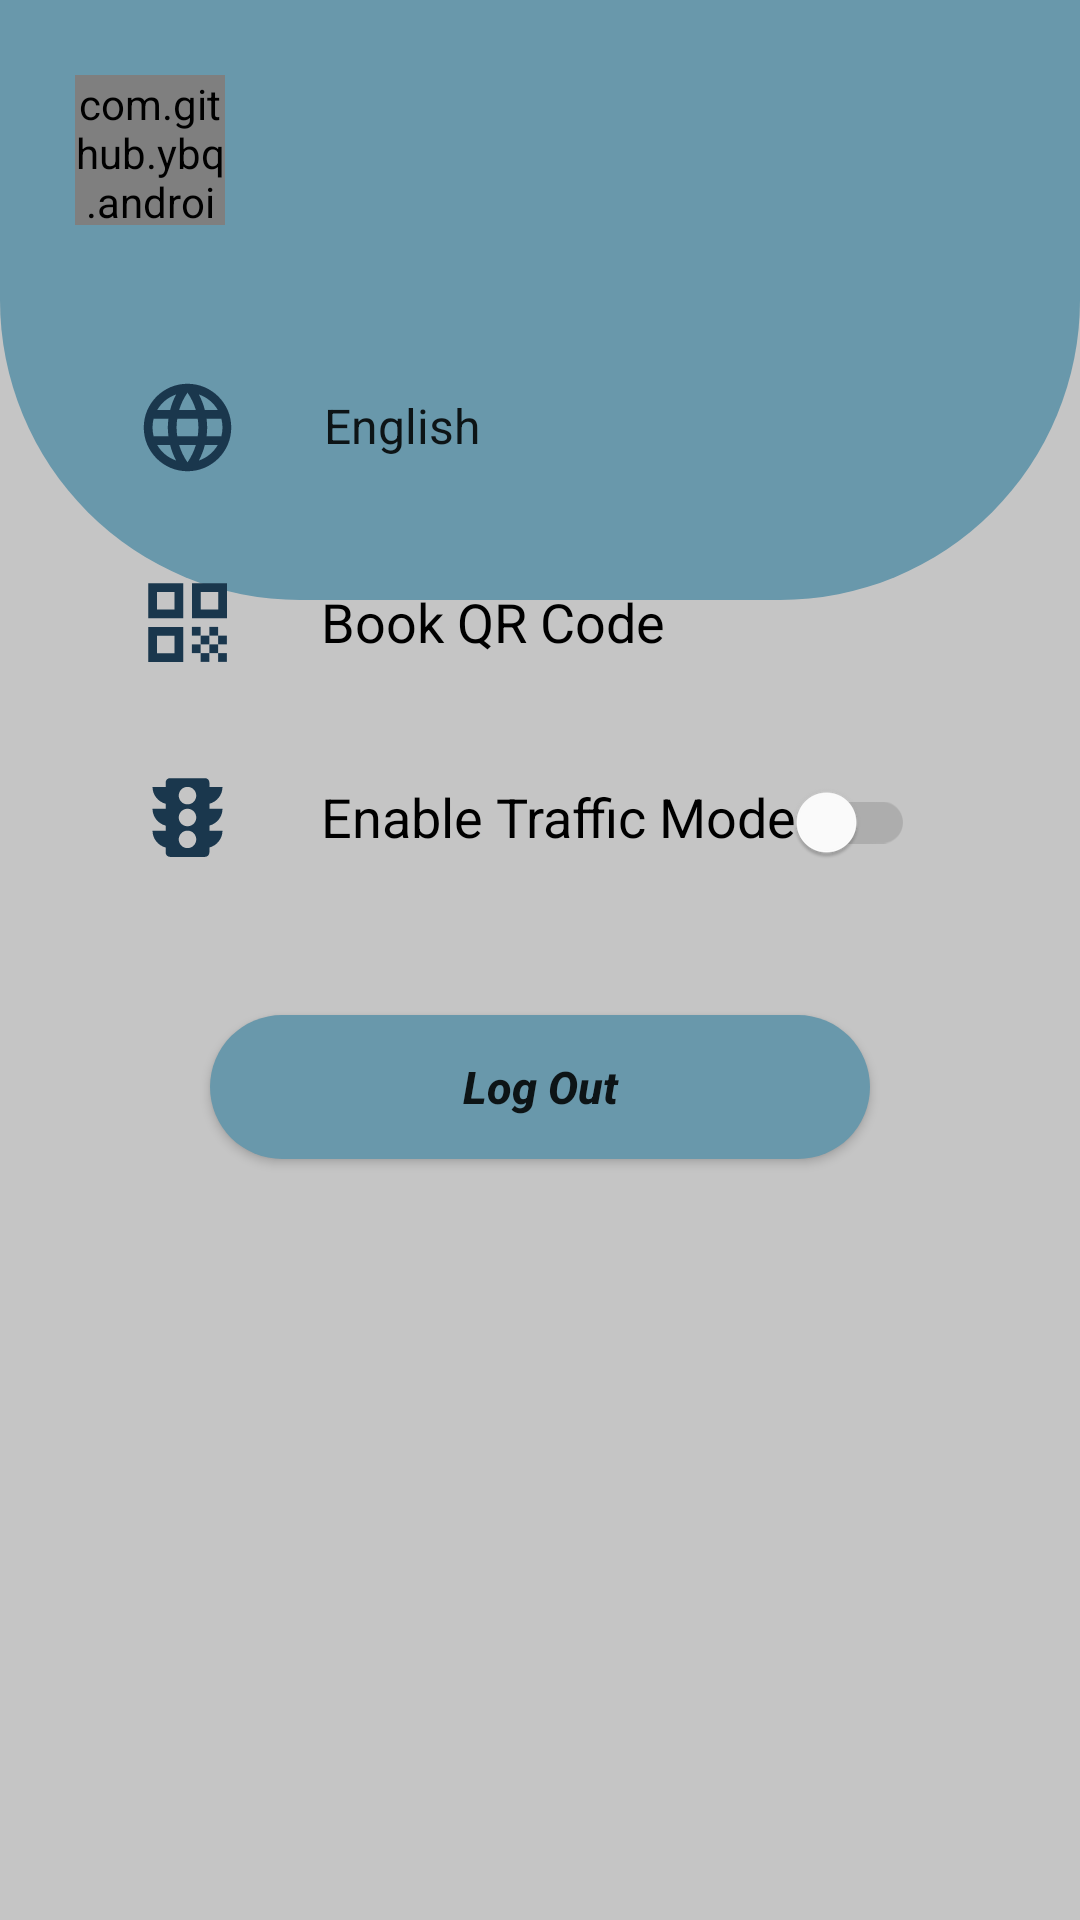

Screen size 1080px×1920px. Icon name, then its box in pixels as (x1, y1, x2, y2):
language: (144, 384, 231, 471)
